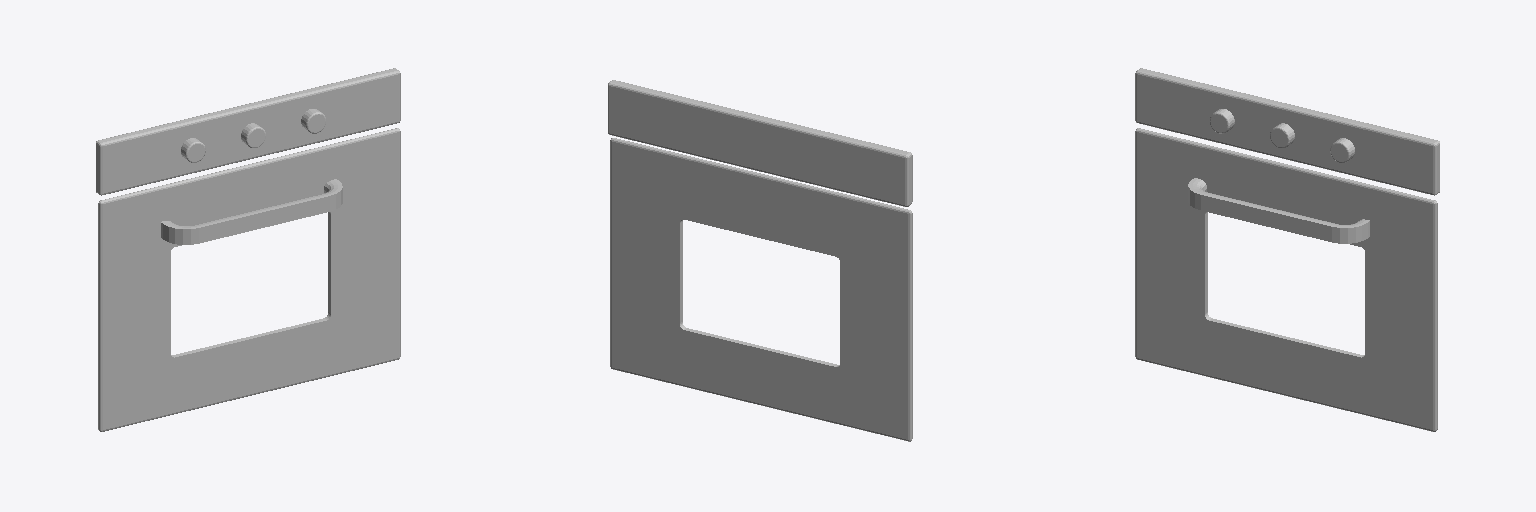
Rendered from housesp_079.obj.
The picture shows the model from 3 angles: view 1: azimuth 30°, elevation 25°; view 2: azimuth 150°, elevation 25°; view 3: azimuth 330°, elevation 25°; orthographic projection.
Size of the model in its own units: 60 by 55 by 7.5.